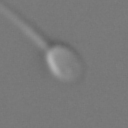normal: (1, 1, 49, 47)
